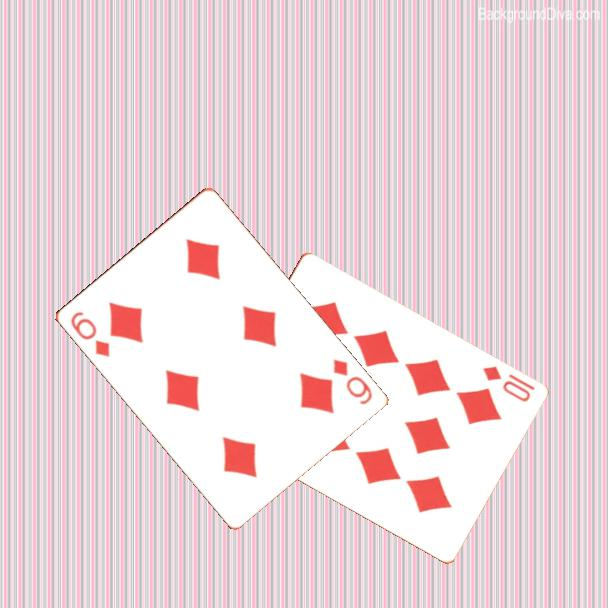d06: (329, 355, 375, 408), (66, 308, 112, 360)
d10: (478, 362, 538, 405)
